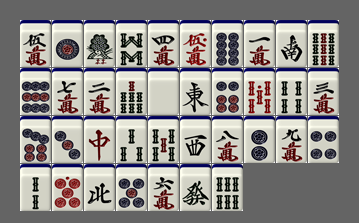0m: (180, 20, 211, 67)
0p: (52, 164, 83, 211)
0s: (244, 68, 275, 115)
1m: (244, 20, 275, 67)
1p: (52, 20, 83, 67)
1s: (84, 20, 115, 67)
1z: (180, 68, 211, 115)
2m: (84, 68, 115, 115)
2p: (244, 116, 275, 163)
2s: (20, 164, 51, 211)
2z: (276, 20, 307, 67)
3m: (308, 68, 339, 115)
3p: (52, 116, 83, 163)
3s: (116, 116, 147, 163)
3z: (180, 116, 211, 163)
4m: (148, 20, 179, 67)
4p: (308, 116, 339, 163)
4s: (276, 68, 307, 115)
4z: (84, 164, 115, 211)
5m: (20, 20, 51, 67)
5p: (116, 164, 147, 211)
5s: (148, 116, 179, 163)
5z: (148, 68, 179, 115)
6m: (148, 164, 179, 211)
6p: (212, 68, 243, 115)
6s: (212, 164, 243, 211)
6z: (180, 164, 211, 211)
7m: (52, 68, 83, 115)
7p: (20, 116, 51, 163)
7s: (116, 68, 147, 115)
7z: (84, 116, 115, 163)
8m: (212, 116, 243, 163)
8p: (212, 20, 243, 67)
8s: (116, 20, 147, 67)
9m: (276, 116, 307, 163)
9p: (20, 68, 51, 115)
9s: (308, 20, 339, 67)
